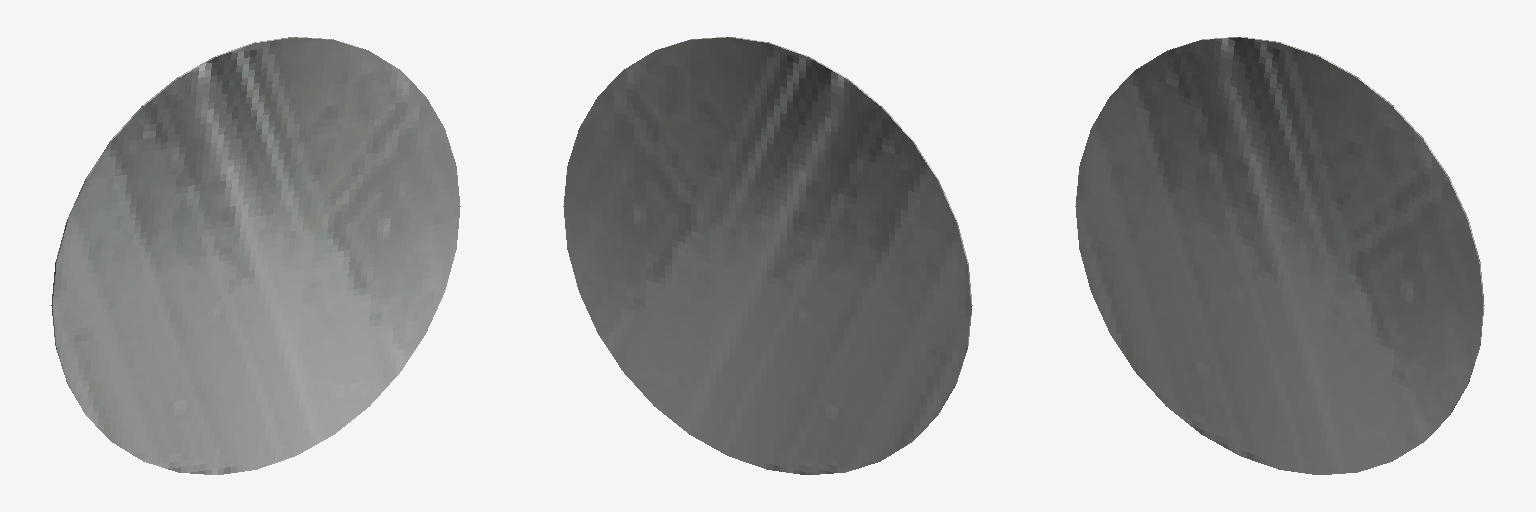
The picture shows the model from 3 angles: view 1: azimuth 30°, elevation 25°; view 2: azimuth 150°, elevation 25°; view 3: azimuth 330°, elevation 25°; orthographic projection.
Parts seen in each view (by area): view 1: Cylinder; view 2: Cylinder; view 3: Cylinder.
Part boxes in pixels (left/top/right/bottom): Cylinder: left=51, top=37, right=460, bottom=474; Cylinder: left=563, top=37, right=972, bottom=474; Cylinder: left=1075, top=37, right=1484, bottom=474.
Bounding box in the file's own units: 0.21 × 0.21 × 0.001.
Materials: 1 (1 with a texture image).